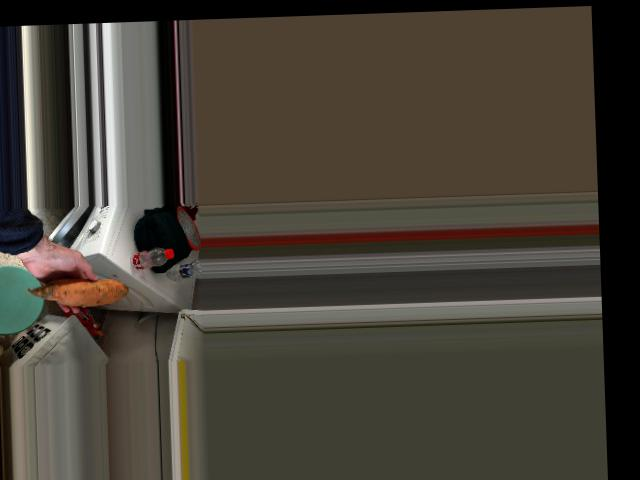sweet_potato: (47, 270, 116, 303)
